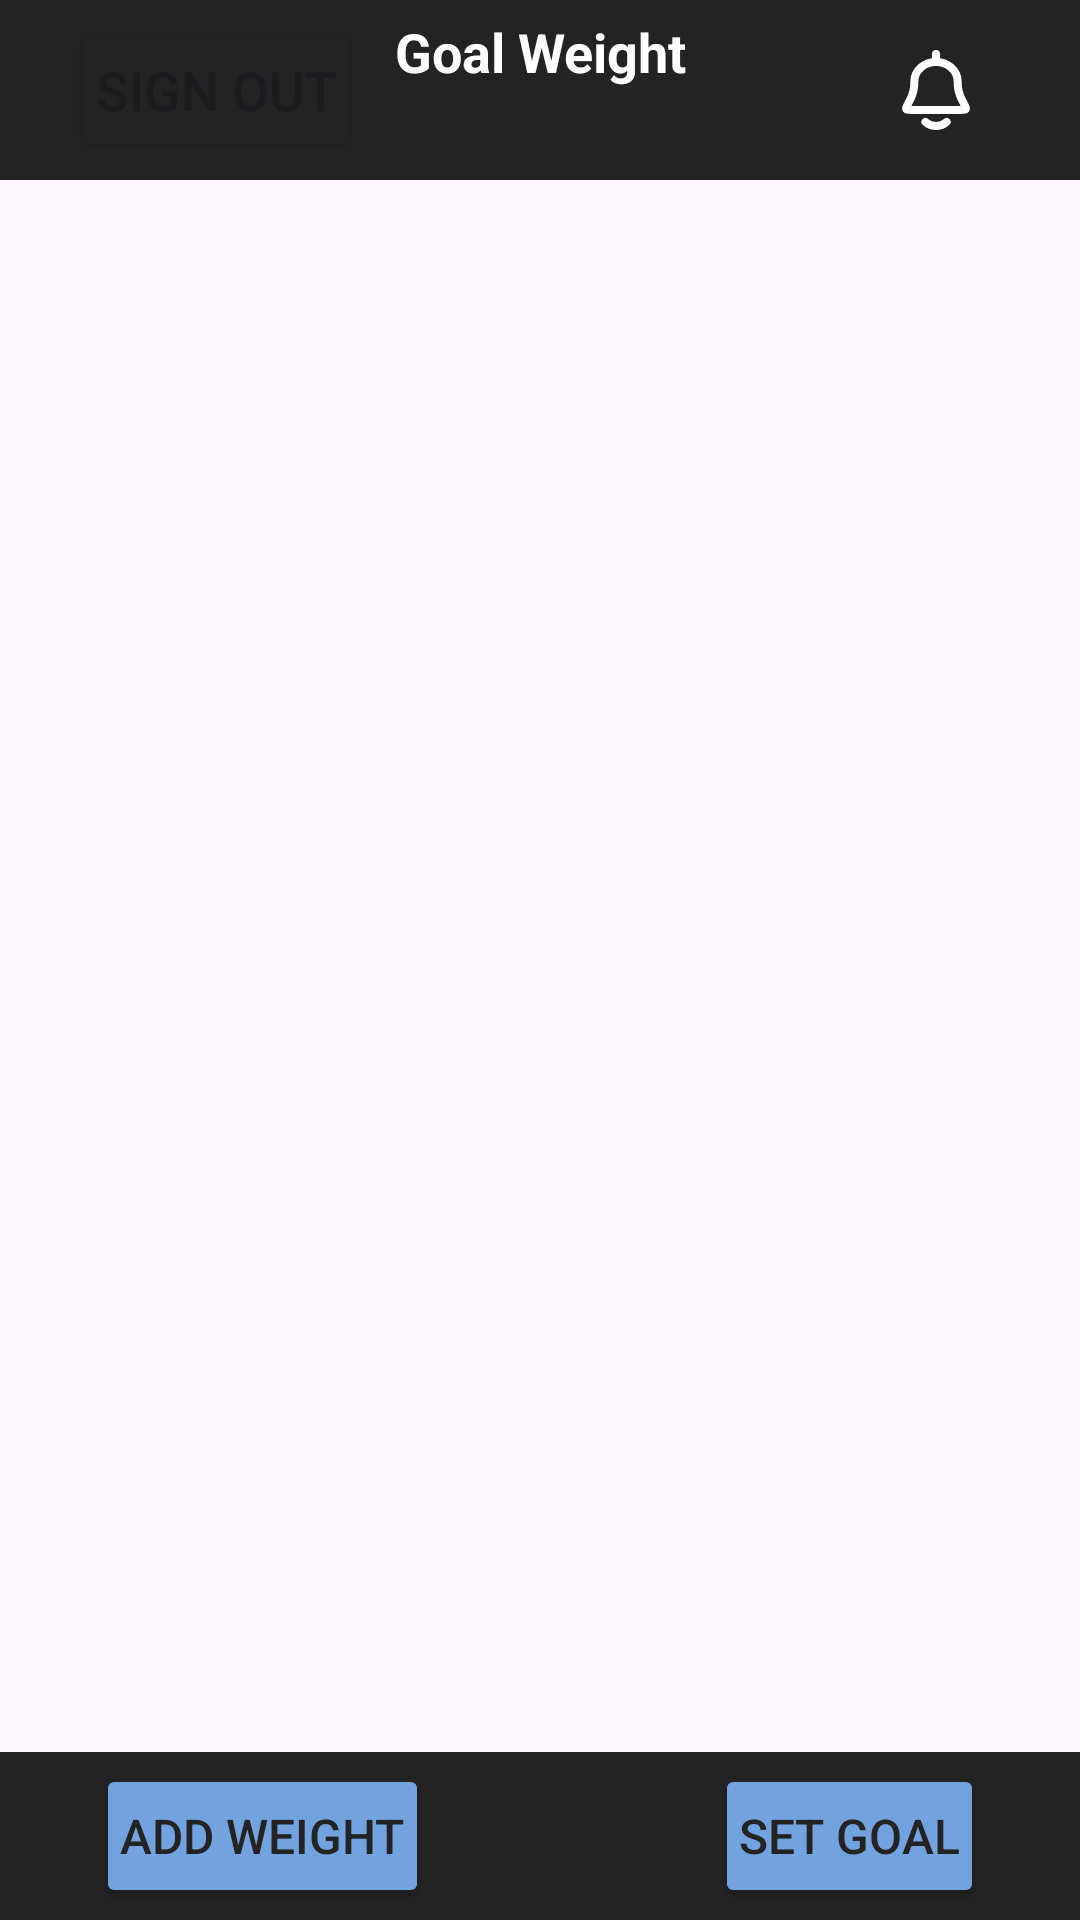

Point at icon controls on the screen. Image size 1080x1920, points as point (x, y).
Notification bell: point (936, 90)
